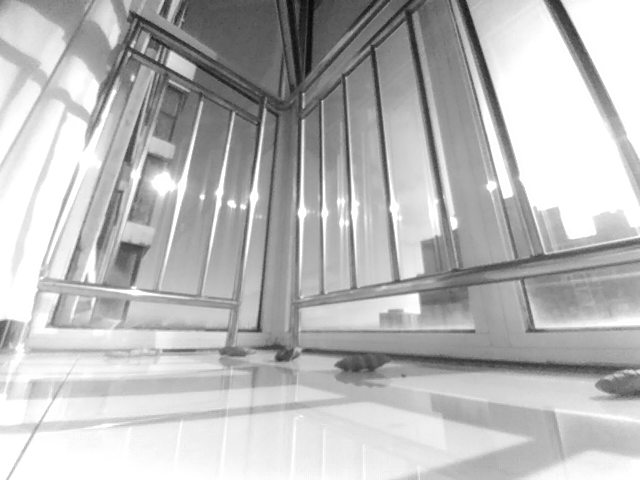pet feces: (592, 366, 640, 399), (334, 350, 393, 375), (273, 344, 306, 363), (219, 344, 257, 357)
